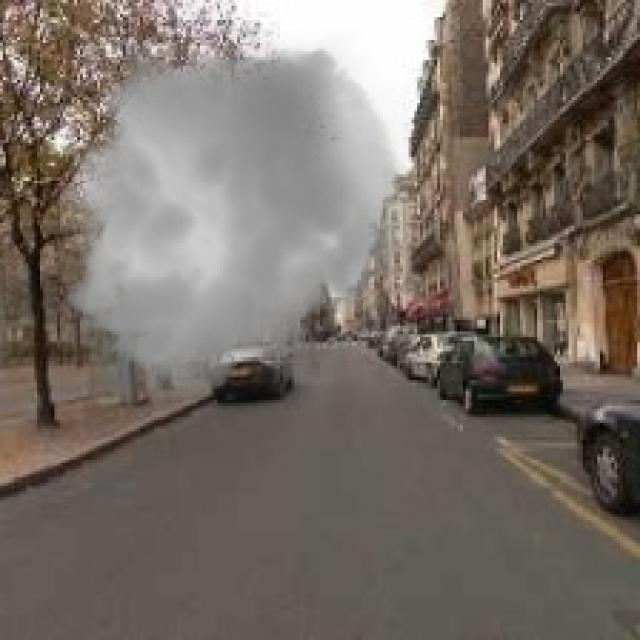Smoke: (43, 28, 420, 414)
